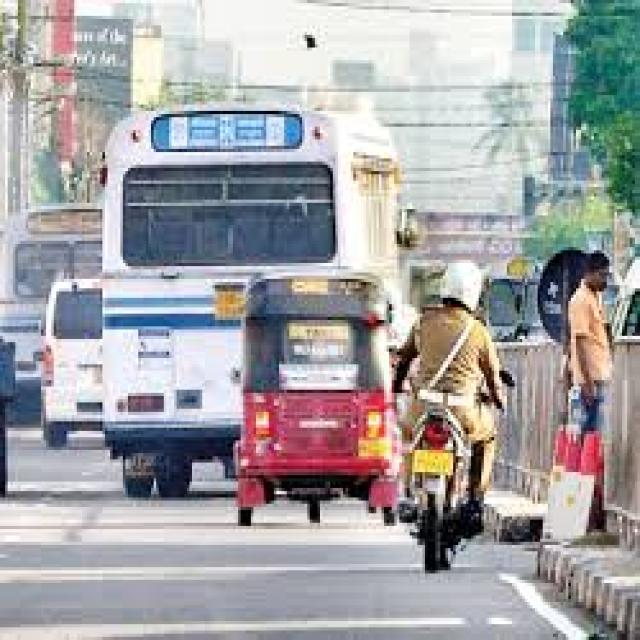bus: (102, 105, 397, 494), (0, 206, 100, 421)
car: (41, 279, 100, 447)
motorcycle: (410, 406, 479, 570)
person: (394, 260, 502, 501), (568, 250, 609, 431)
three wheeler: (238, 272, 394, 523)
